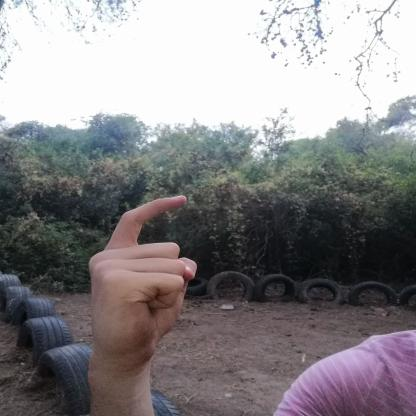RAA: (75, 182, 208, 366)
